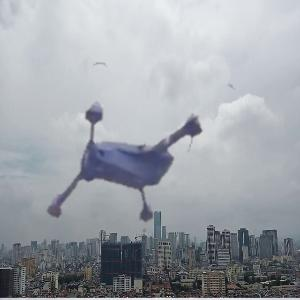drone: (44, 47, 239, 242)
